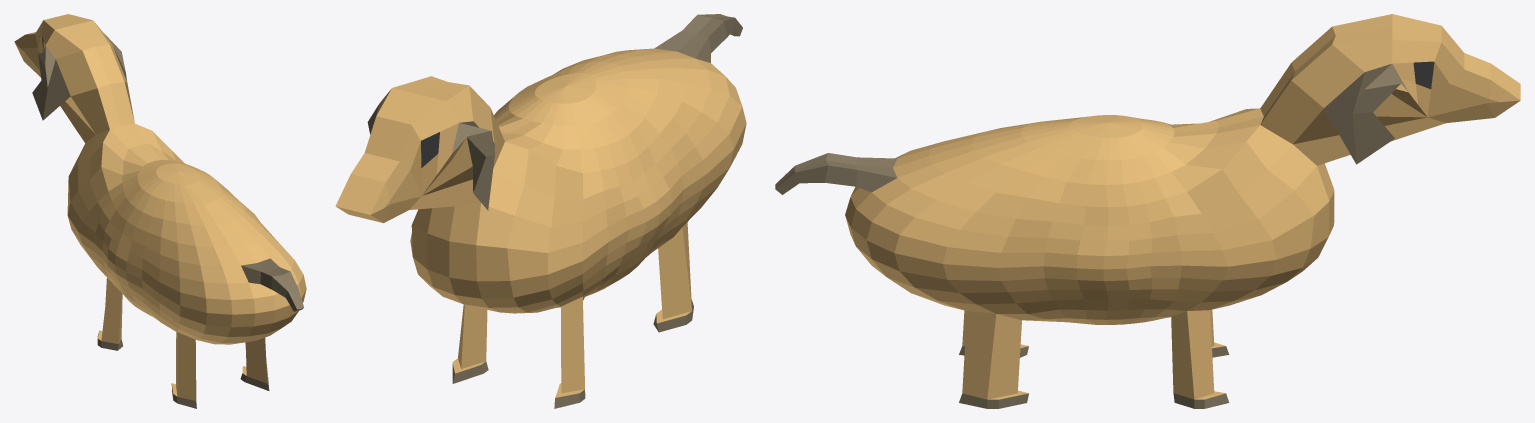
The model's file is dog_fbx.fbx.
3 renders of one model, left to right at view 1: azimuth 30°, elevation 25°; view 2: azimuth 150°, elevation 25°; view 3: azimuth 270°, elevation 25°, orthographic. The views are drawn at different scales.
Parts seen in each view (by area): view 1: Sphere; view 2: Sphere; view 3: Sphere.
Boxes of the visible parts, bbox=[...] form: Sphere: bbox=[14, 14, 306, 408]; Sphere: bbox=[335, 14, 746, 408]; Sphere: bbox=[775, 14, 1520, 408].
Bounding box in the file's own units: 25.9 × 49.16 × 94.35.
